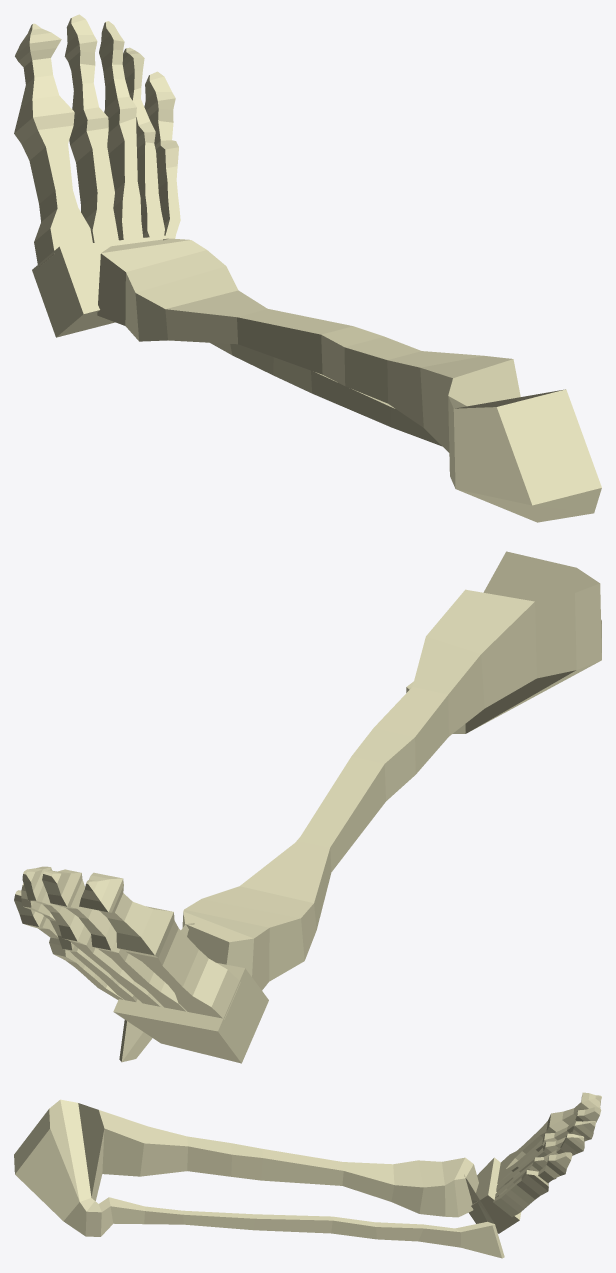
File: skeletonLeg.obj
3 views of the same model, one above another, from view 1: azimuth 30°, elevation 25°; view 2: azimuth 150°, elevation 25°; view 3: azimuth 270°, elevation 25° (orthographic). The views are drawn at different scales.
Visible parts, largest first — view 1: Cube.015_Cube.053, Cube_Cube.020; view 2: Cube.015_Cube.053, Cube_Cube.020; view 3: Cube.015_Cube.053, Cube_Cube.020.
Part boxes in pixels (left/top/right/bottom): Cube.015_Cube.053: left=97, top=238, right=601, bottom=522; Cube_Cube.020: left=14, top=14, right=180, bottom=337; Cube.015_Cube.053: left=119, top=551, right=601, bottom=1062; Cube_Cube.020: left=14, top=866, right=268, bottom=1063; Cube.015_Cube.053: left=14, top=1099, right=504, bottom=1258; Cube_Cube.020: left=471, top=1092, right=601, bottom=1233.
Bounding box in the file's own units: 0.2123 × 0.2919 × 1.05.
Materials: 1 (1 with a texture image).
